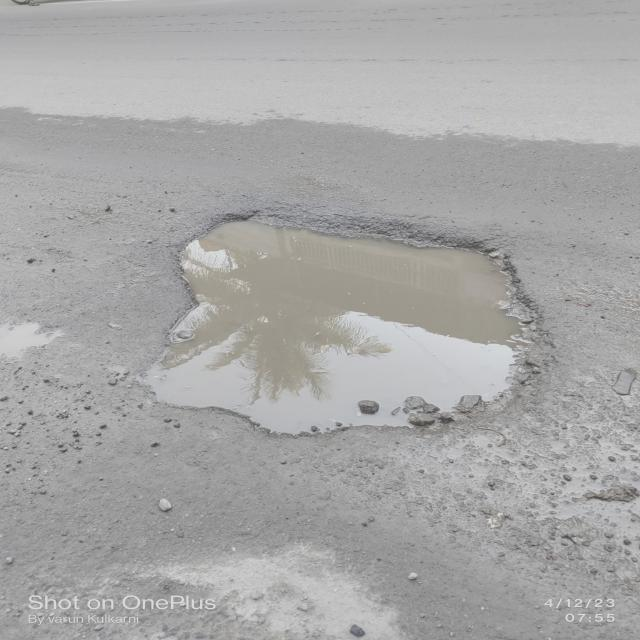Puddle pothole: (120, 192, 558, 447)
